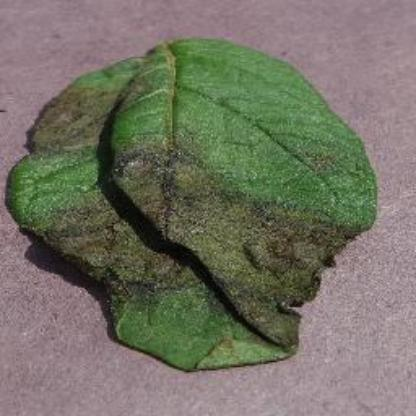Late-Blight: (6, 35, 382, 389)
